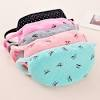cloth_mask: (15, 43, 100, 88)
